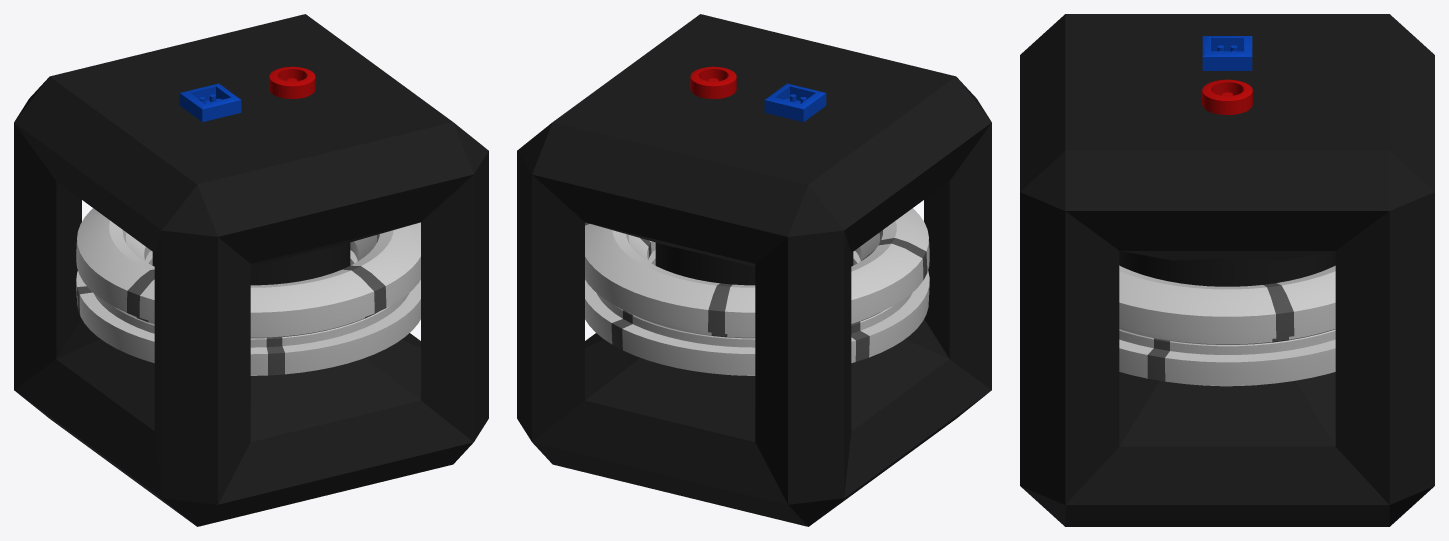
The model's file is SmallGyroscope.gltf.
The picture shows the model from 3 angles, left to right: view 1: azimuth 30°, elevation 25°; view 2: azimuth 150°, elevation 25°; view 3: azimuth 270°, elevation 25°; orthographic projection. The views are drawn at different scales.
Visible parts, largest first — view 1: Cube, Torus2, Torus1; view 2: Cube, Torus2, Torus1; view 3: Cube, Torus2, Torus1.
Boxes of the visible parts, x1,y1,x2,y2 form: Cube: (14,14,488,526); Torus2: (76,208,420,338); Torus1: (76,249,420,375); Cube: (517,14,991,526); Torus2: (585,208,929,338); Torus1: (585,249,929,375); Cube: (1020,14,1434,526); Torus2: (1119,265,1335,344); Torus1: (1119,329,1335,386).
Bounding box in the file's own units: 0.5 × 0.5206 × 0.5.
